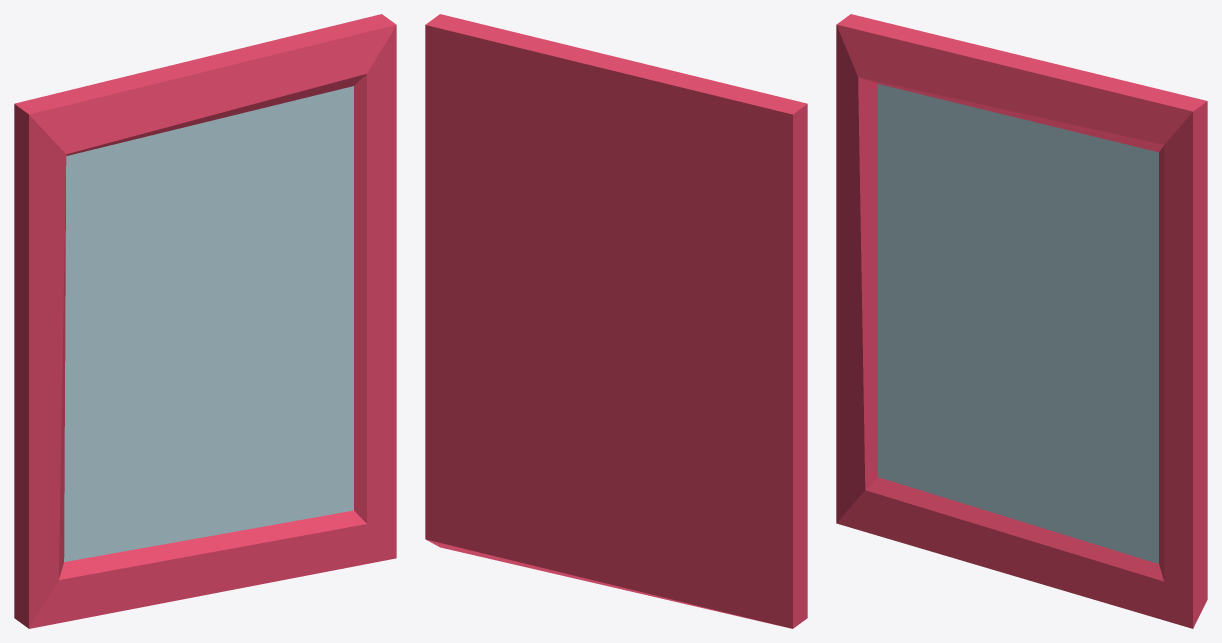
The model's file is mirror.fbx.
3 renders of one model, left to right at view 1: azimuth 30°, elevation 25°; view 2: azimuth 150°, elevation 25°; view 3: azimuth 330°, elevation 25°, orthographic. The views are drawn at different scales.
Visible parts, largest first — view 1: Mirror; view 2: Mirror; view 3: Mirror.
Part boxes in pixels (x1,y1,x2,y2): Mirror: [14, 14, 396, 628]; Mirror: [425, 14, 807, 628]; Mirror: [836, 14, 1207, 628].
Bounding box in the file's own units: 120 × 12.62 × 167.
